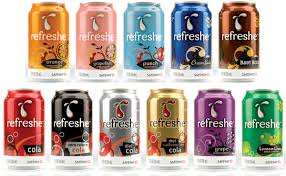can: (3, 75, 49, 160), (22, 1, 69, 84), (243, 82, 286, 158), (168, 4, 213, 76), (101, 83, 138, 166), (80, 2, 123, 73), (148, 83, 187, 161), (53, 90, 94, 163), (223, 7, 267, 72), (128, 1, 163, 78), (194, 92, 234, 159)
